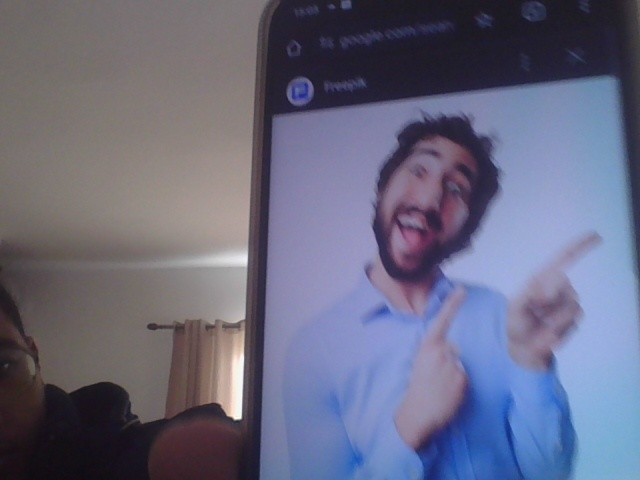fake: (376, 110, 486, 266)
